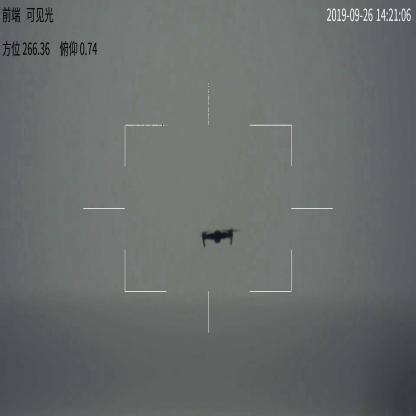uav: (193, 222, 240, 250)
